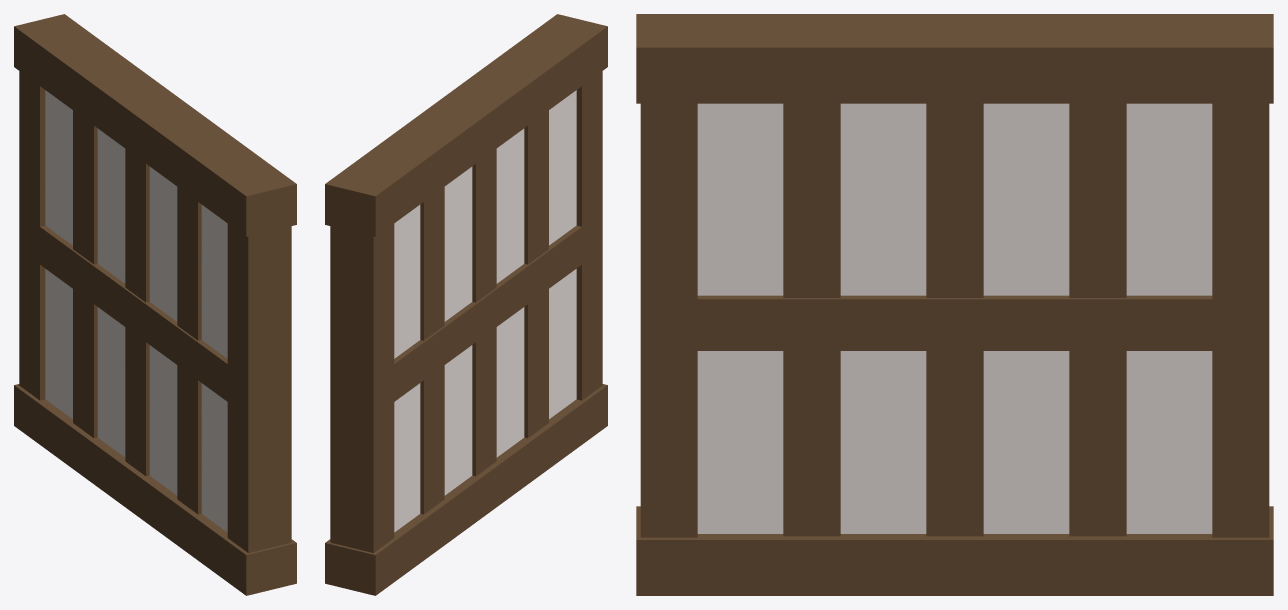
Rendered from Wall04.fbx.
3 views of the same model, side by side, from view 1: azimuth 30°, elevation 25°; view 2: azimuth 150°, elevation 25°; view 3: azimuth 270°, elevation 25° (orthographic). The views are drawn at different scales.
Visible parts, largest first — view 1: Wall_02; view 2: Wall_02; view 3: Wall_02.
Part boxes in pixels (x1=…): Wall_02: x1=14, y1=14, x2=296, y2=595; Wall_02: x1=325, y1=14, x2=607, y2=595; Wall_02: x1=636, y1=14, x2=1273, y2=595.
Size of the model in its own units: 28 by 212 by 223.
